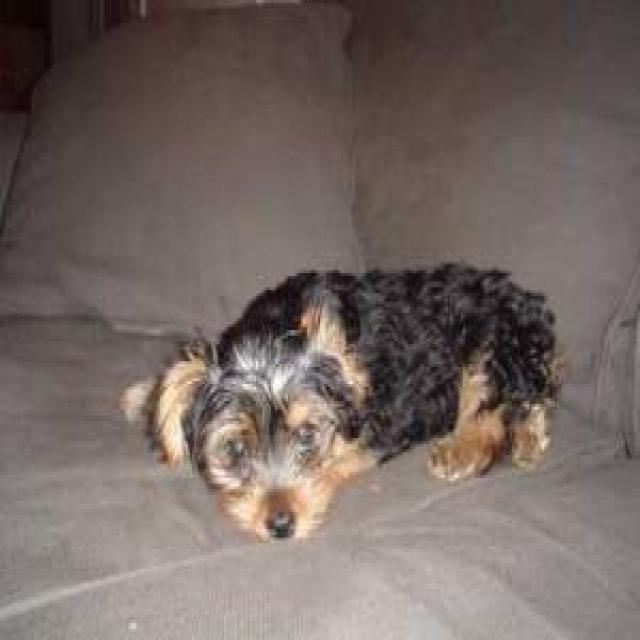dog-yorkshire_terrier: (122, 256, 567, 549)
